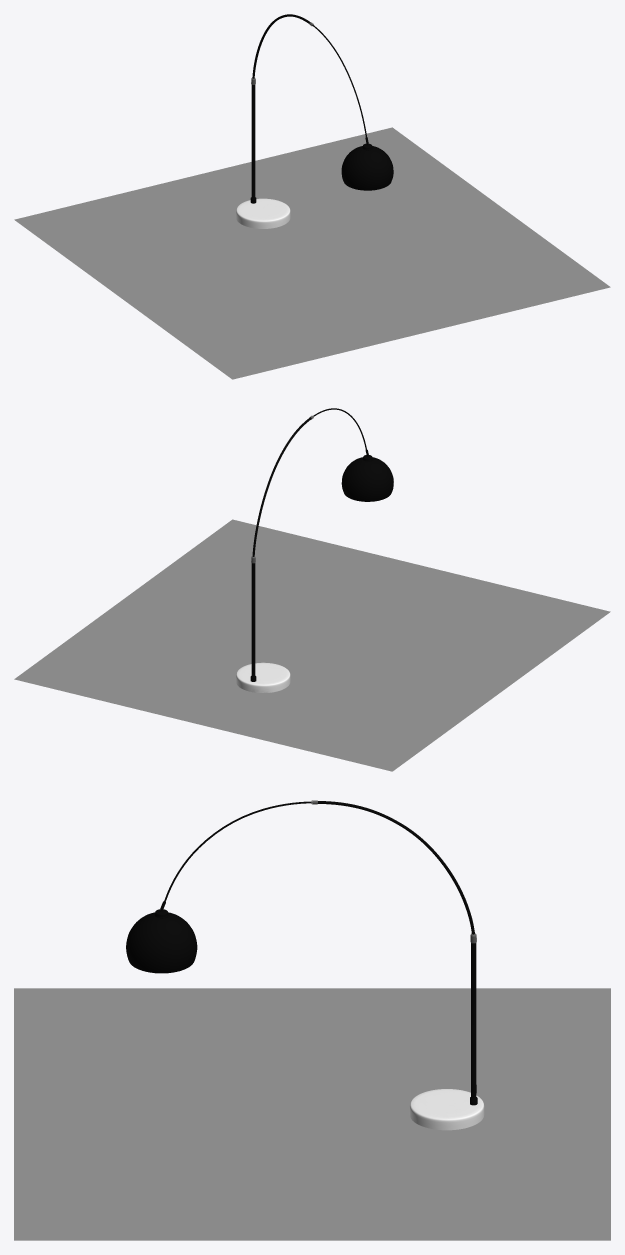
The model's file is Bow Large Floor Lamp, Black and White Marble.fbx.
3 renders of one model, top to bottom at view 1: azimuth 30°, elevation 25°; view 2: azimuth 150°, elevation 25°; view 3: azimuth 270°, elevation 25°, orthographic. The views are drawn at different scales.
Visible parts, largest first — view 1: Plane001, Large_Bow_Lamp_Black; view 2: Plane001, Large_Bow_Lamp_Black; view 3: Plane001, Large_Bow_Lamp_Black.
Boxes of the visible parts, x1,y1,x2,y2 form: Plane001: (14, 127, 610, 379); Large_Bow_Lamp_Black: (236, 14, 393, 228); Plane001: (14, 519, 610, 771); Large_Bow_Lamp_Black: (236, 408, 393, 692); Plane001: (14, 988, 610, 1240); Large_Bow_Lamp_Black: (126, 800, 484, 1130).
Size of the model in its own units: 334 by 194 by 334.
